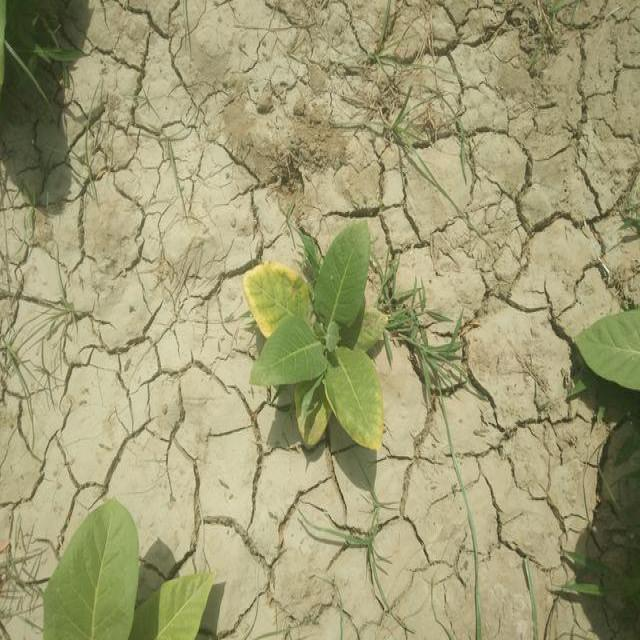crop: (242, 222, 392, 449), (42, 499, 208, 640), (577, 298, 640, 394)
